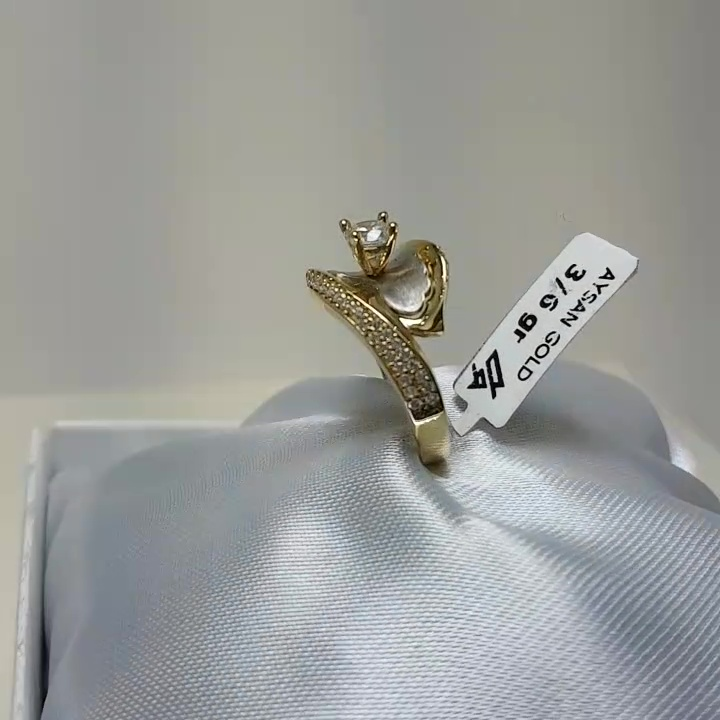Ring 6: (310, 188, 505, 494)
